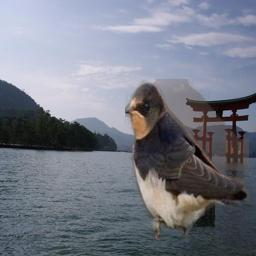Swallow: (125, 79, 249, 240)
